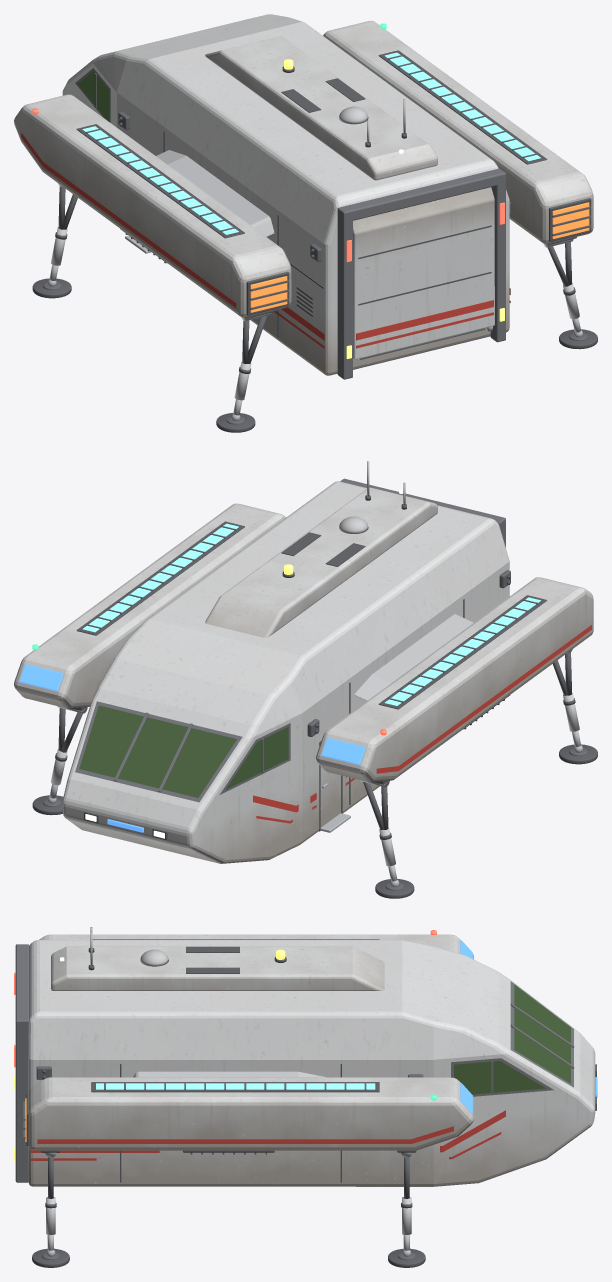
File: dropship.glb
3 views of the same model, one above another, from view 1: azimuth 30°, elevation 25°; view 2: azimuth 150°, elevation 25°; view 3: azimuth 270°, elevation 25° (orthographic). The views are drawn at different scales.
Visible parts, largest first — view 1: Body, RampBody, NacelleGlow1, NacelleGlow0, Leg2Body, Leg3Body, Leg0Body, Thruster5, Thruster4, Foot0Body, Foot2Body, Foot3Body; view 2: Body, NacelleGlow1, NacelleGlow0, Leg0Body, Leg1Body, Leg2Body, Foot0Body, Foot2Body; view 3: Body, NacelleGlow1, Leg3Body, Leg1Body, Foot1Body, Foot3Body.
Boxes of the visible parts, box(x1,y1,x2,y2) form: Body: box(14, 14, 593, 379); RampBody: box(353, 187, 494, 360); NacelleGlow1: box(384, 52, 540, 161); NacelleGlow0: box(82, 126, 238, 234); Leg2Body: box(233, 312, 271, 415); Leg3Body: box(543, 239, 580, 332); Leg0Body: box(49, 183, 77, 280); Thruster5: box(552, 202, 589, 238); Thruster4: box(250, 276, 287, 312); Foot0Body: box(32, 278, 71, 298); Foot2Body: box(216, 413, 255, 432); Foot3Body: box(559, 329, 597, 349); Body: box(14, 461, 593, 863); NacelleGlow1: box(83, 523, 238, 632); NacelleGlow0: box(384, 597, 540, 705); Leg0Body: box(359, 780, 397, 881); Leg1Body: box(49, 706, 87, 798); Leg2Body: box(553, 649, 580, 746); Foot0Body: box(375, 879, 414, 898); Foot2Body: box(559, 744, 597, 764); Body: box(14, 927, 597, 1186); NacelleGlow1: box(96, 1083, 375, 1089); Leg3Body: box(45, 1152, 56, 1250); Leg1Body: box(401, 1152, 412, 1250); Foot1Body: box(388, 1248, 425, 1267); Foot3Body: box(32, 1248, 69, 1267).
Size of the model in its own units: 9.35 by 6.26 by 12.97.
28 materials, 5 textured.
